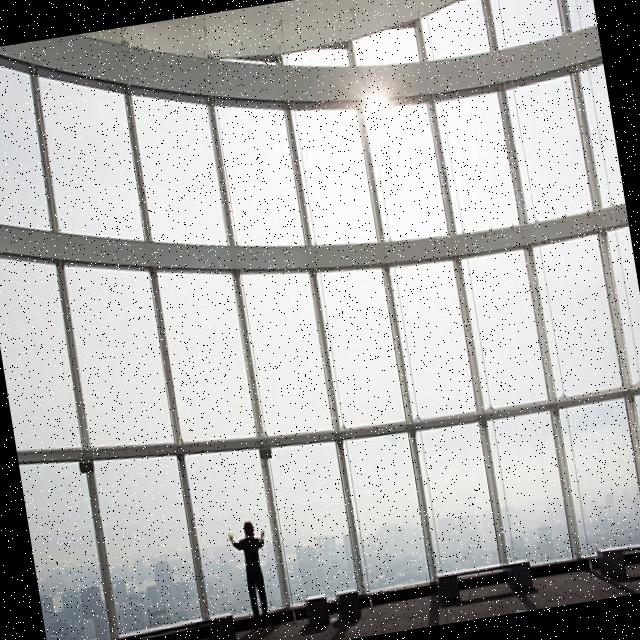Window: (152, 254, 262, 461), (236, 257, 344, 446), (386, 250, 488, 432), (314, 257, 415, 431)
